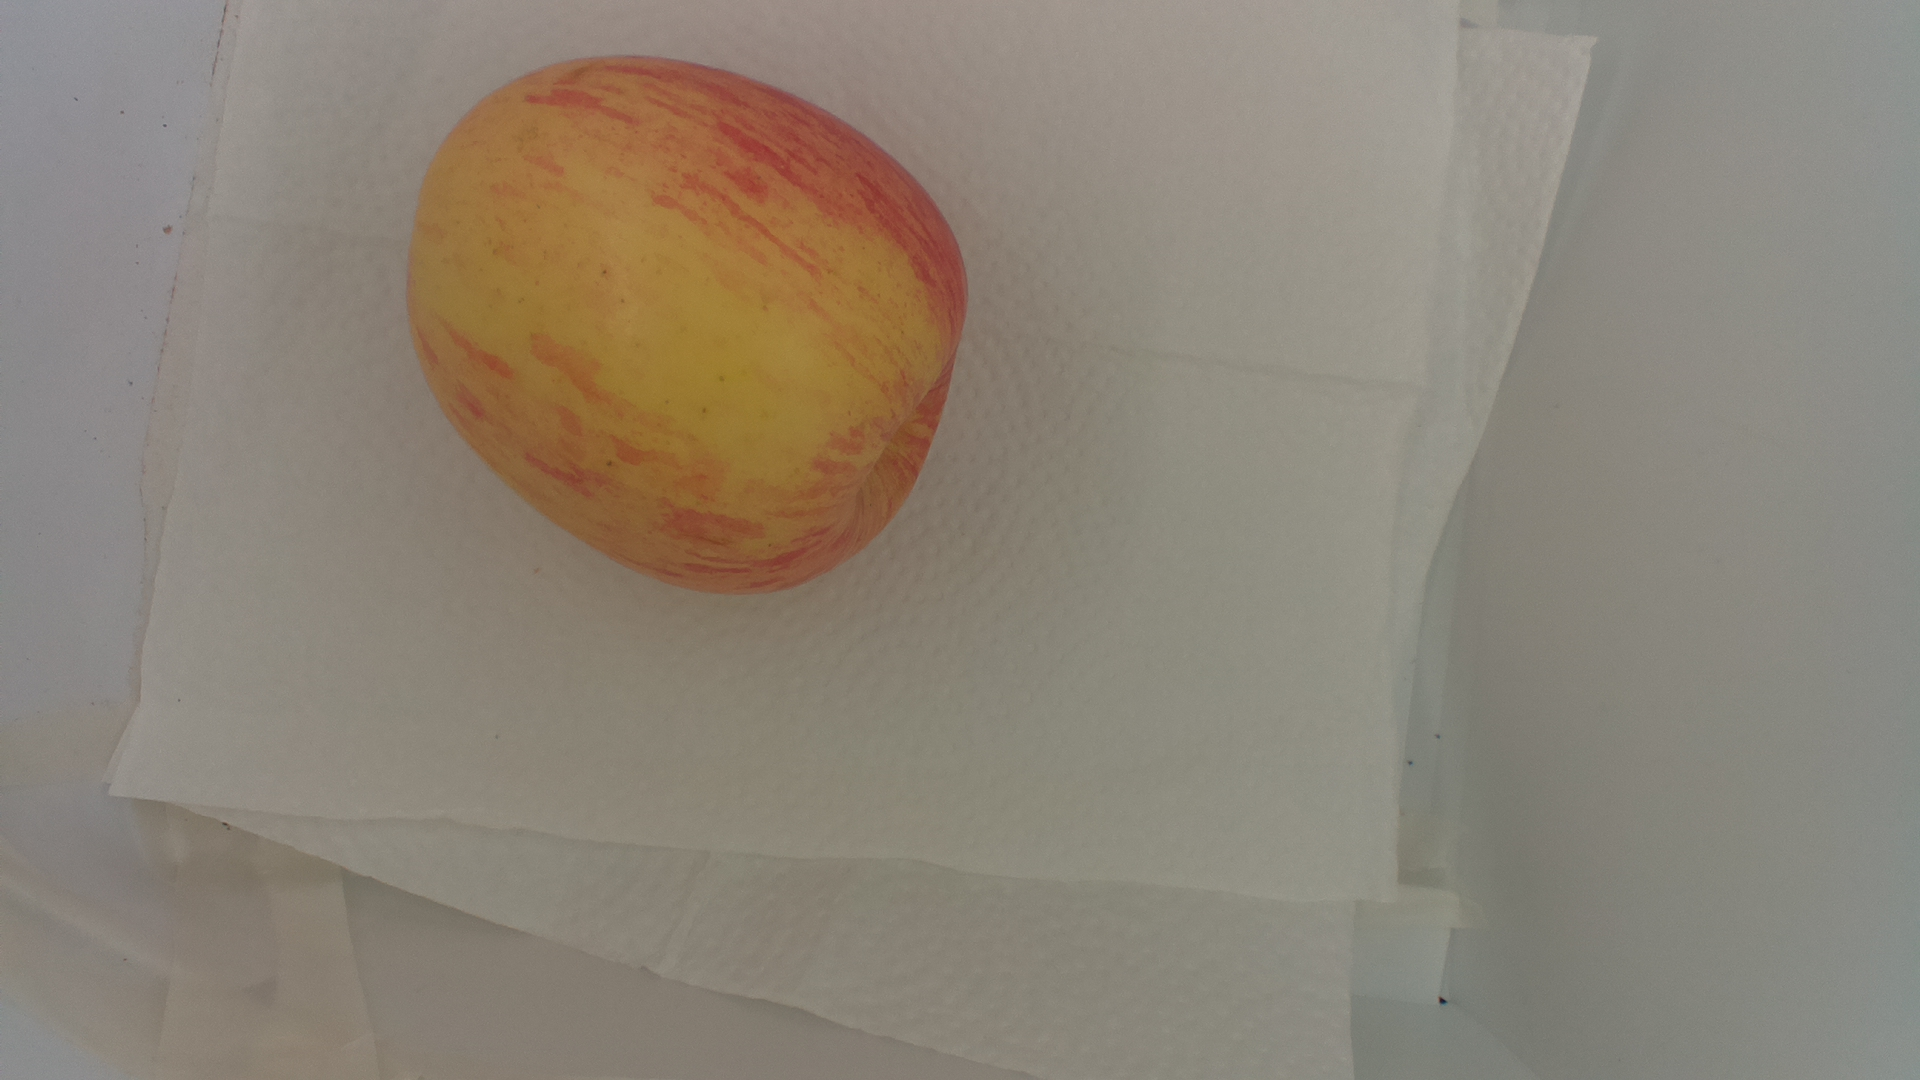fruit: (404, 50, 973, 600)
